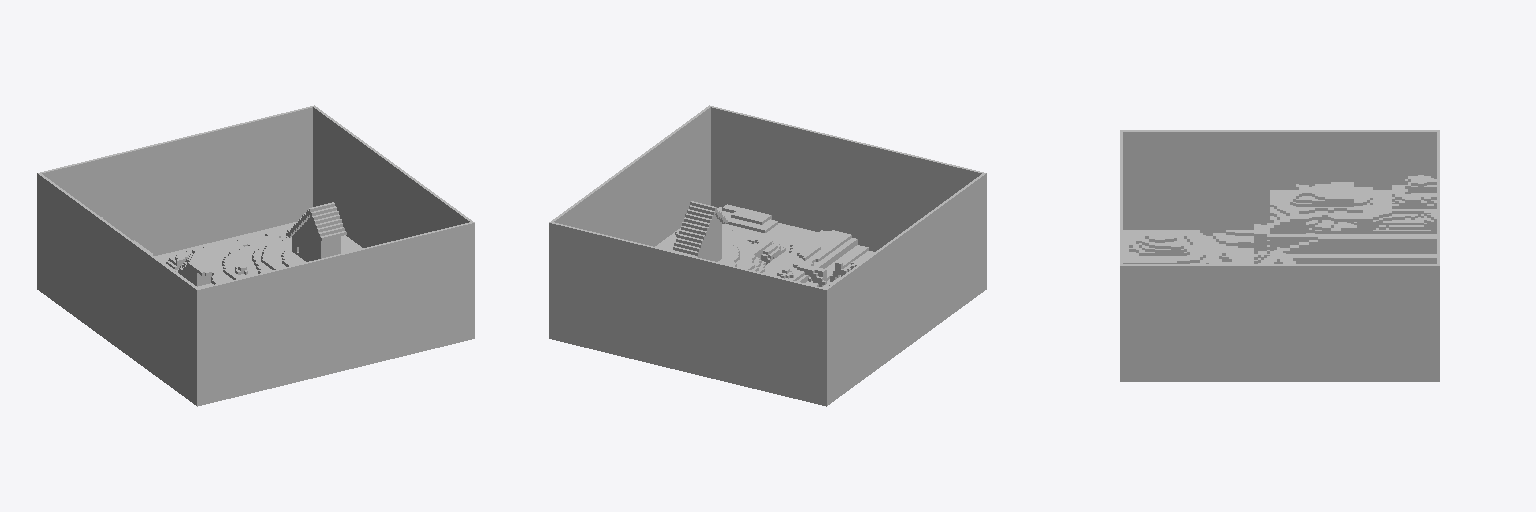
File: world.obj
3 views of the same model, side by side, from view 1: azimuth 30°, elevation 25°; view 2: azimuth 150°, elevation 25°; view 3: azimuth 270°, elevation 25° (orthographic).
Visible parts, largest first — view 1: object 1; view 2: object 1; view 3: object 1.
Part boxes in pixels (x1,y1,x2,y2): object 1: (37, 105, 474, 406); object 1: (549, 105, 986, 406); object 1: (1120, 130, 1439, 381).
Size of the model in its own units: 10 by 4 by 10.